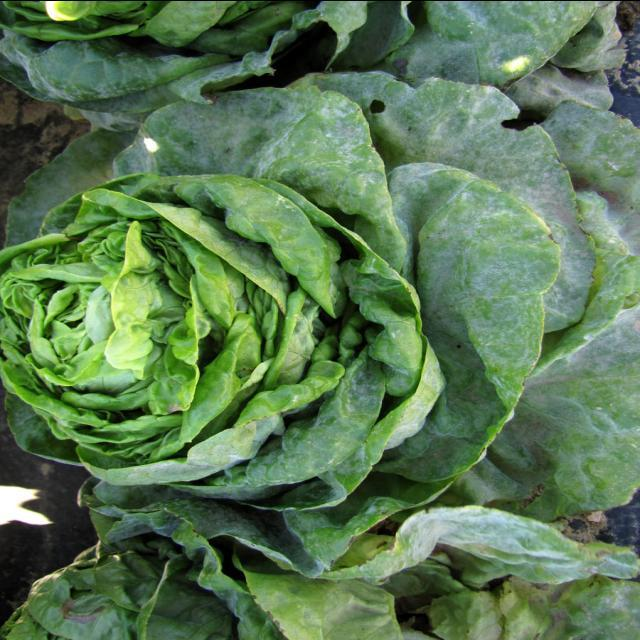Lettuce: (0, 70, 640, 530), (0, 507, 640, 640), (0, 0, 613, 107)
